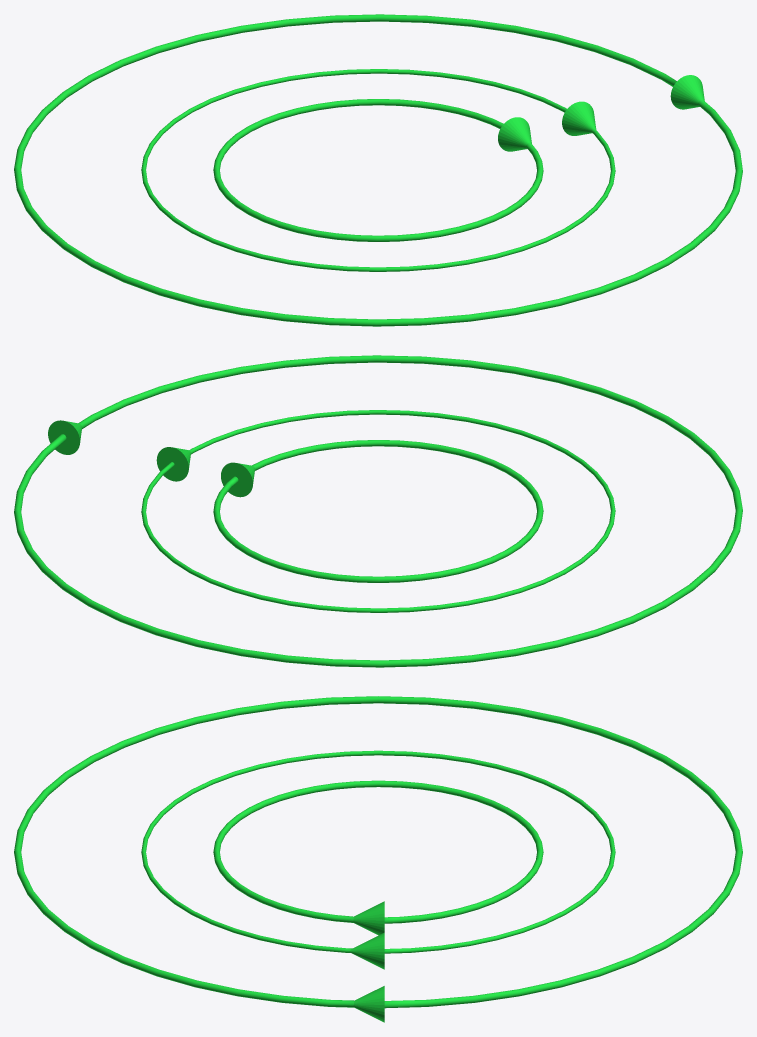
The model's file is campo1.dae.
3 views of the same model, one above another, from view 1: azimuth 30°, elevation 25°; view 2: azimuth 150°, elevation 25°; view 3: azimuth 270°, elevation 25° (orthographic).
Visible parts, largest first — view 1: BezierCircle, BezierCircle.001, Cone.002; view 2: BezierCircle, BezierCircle.001, Cone.002; view 3: BezierCircle, BezierCircle.001, Cone.002.
Boxes of the visible parts, x1,y1,x2,y2 form: BezierCircle: (14, 14, 742, 326); BezierCircle.001: (141, 69, 615, 271); Cone.002: (213, 99, 543, 241); BezierCircle: (14, 355, 742, 667); BezierCircle.001: (141, 410, 615, 612); Cone.002: (213, 440, 543, 582); BezierCircle: (14, 696, 742, 1022); BezierCircle.001: (141, 750, 615, 969); Cone.002: (213, 780, 543, 935).
Bounding box in the file's own units: 2.06 × 2.02 × 0.1032.
